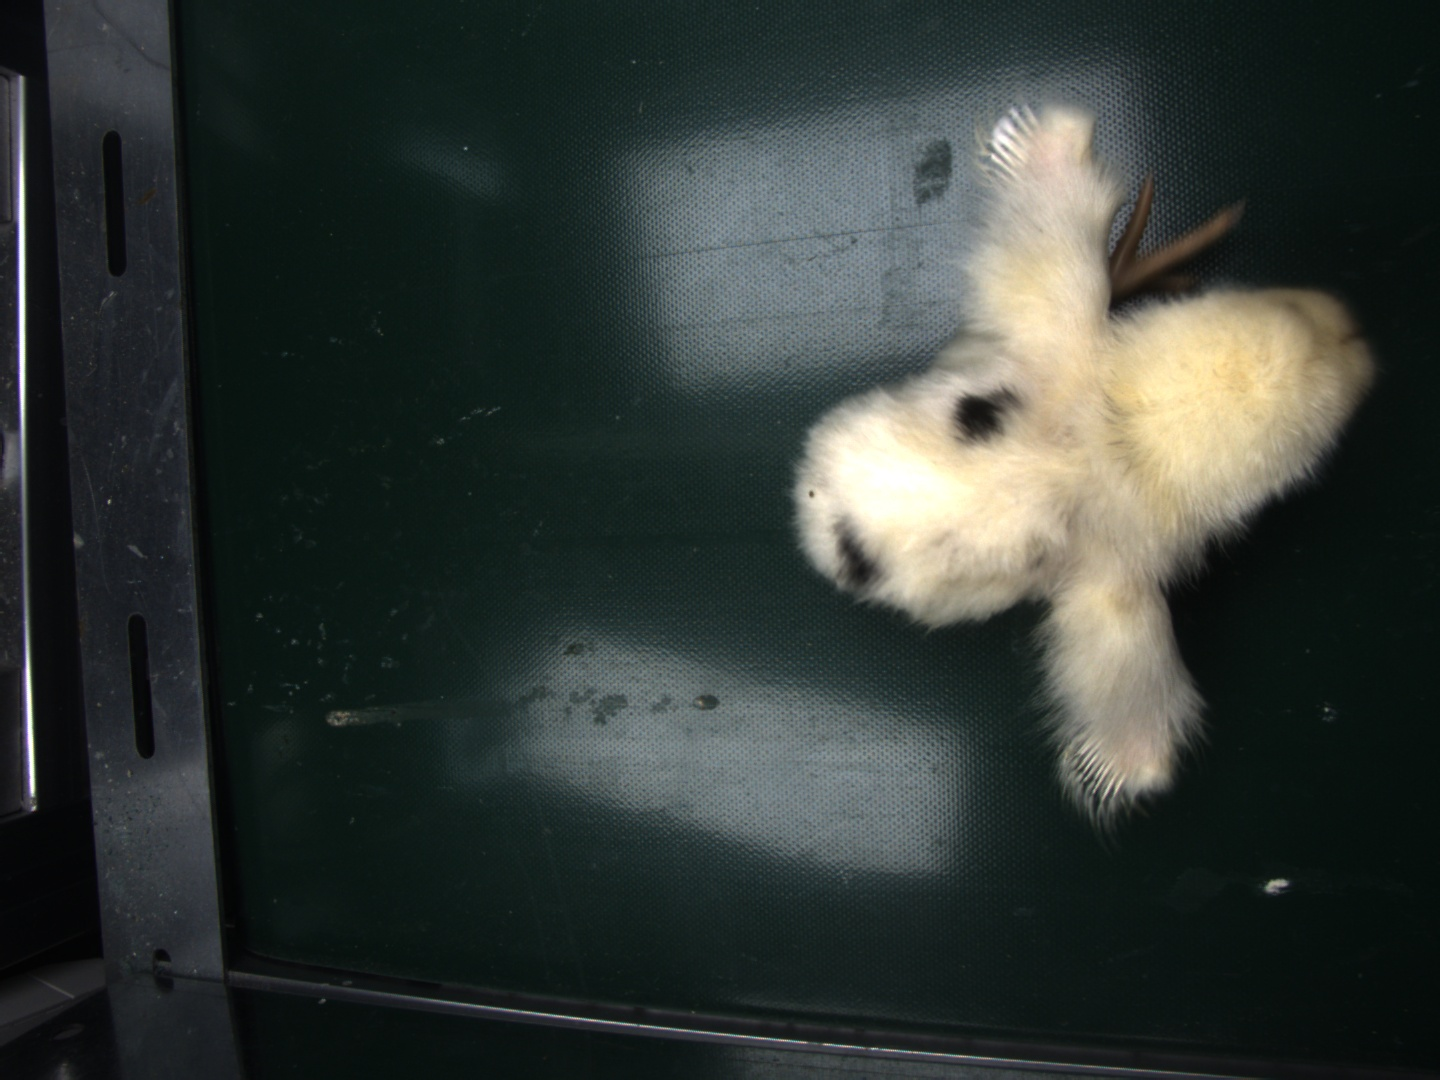male: (1067, 729, 1129, 801)
